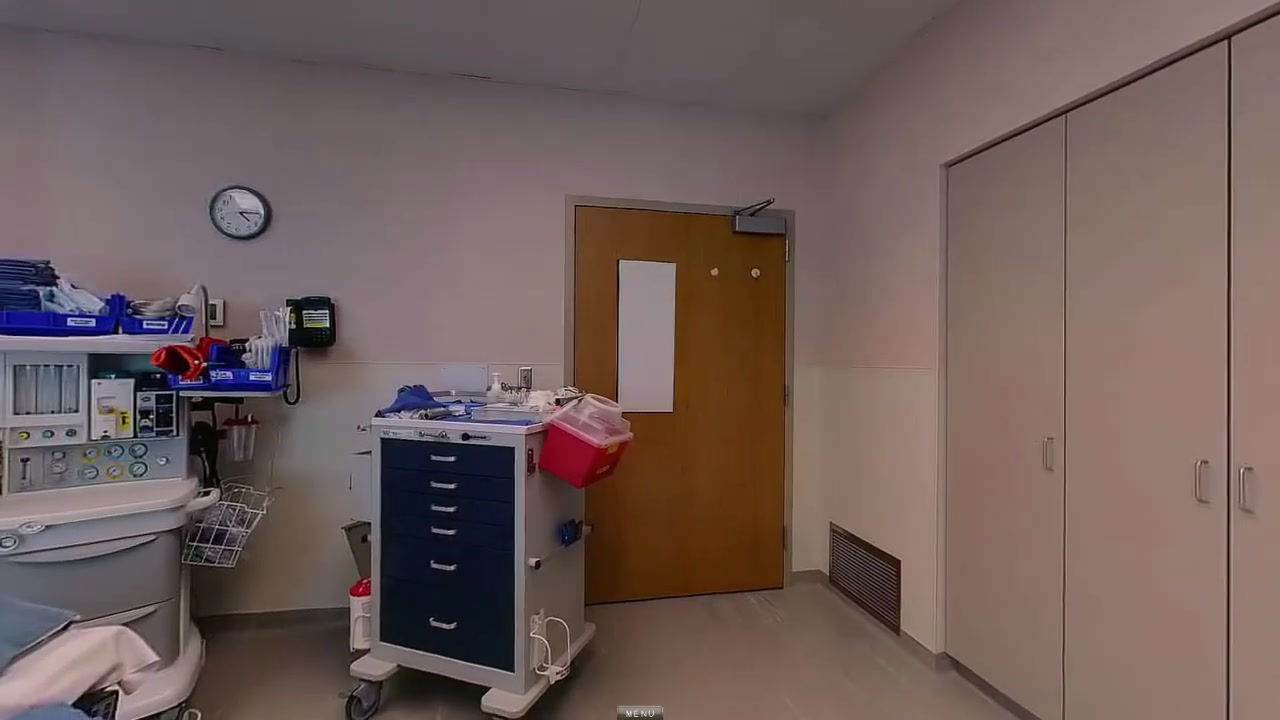cabinet: (943, 19, 1280, 720)
handle: (1188, 455, 1215, 507), (1234, 462, 1258, 519), (1036, 432, 1059, 474), (426, 613, 459, 632), (427, 499, 462, 515), (427, 477, 460, 493), (430, 556, 460, 573), (428, 449, 457, 466), (429, 523, 459, 539)
medical_drawer: (344, 410, 585, 717)
telephone: (282, 293, 339, 352)
